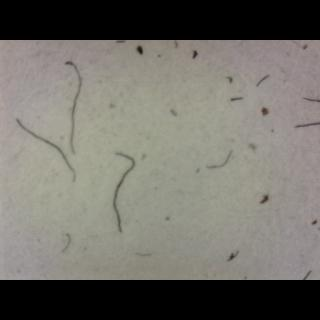Microplastic: (11, 105, 78, 201), (105, 140, 138, 234), (64, 59, 86, 155), (198, 146, 236, 174), (290, 117, 320, 137), (59, 228, 79, 255), (298, 88, 320, 110), (294, 260, 318, 280), (252, 70, 274, 90), (228, 90, 248, 104)
